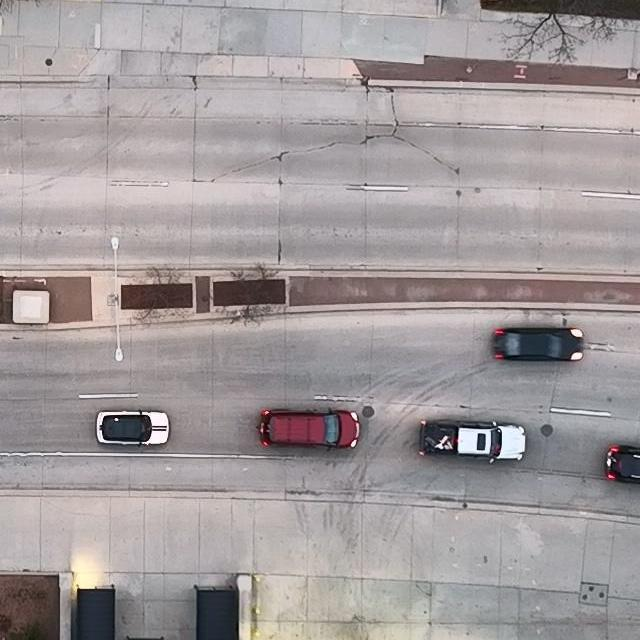car: (419, 418, 526, 465), (255, 407, 360, 449), (493, 328, 583, 362), (96, 409, 170, 447), (606, 445, 640, 484)
